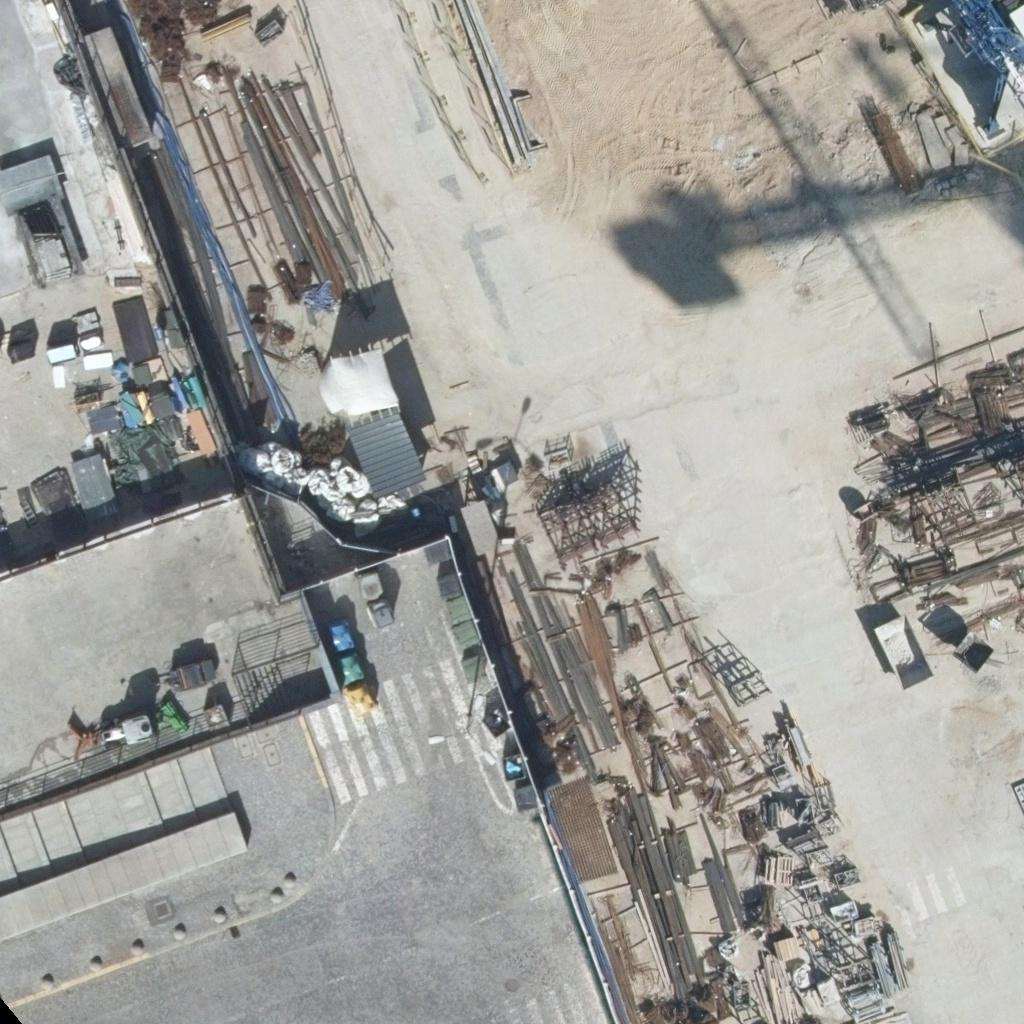koparka: (98, 714, 153, 747)
